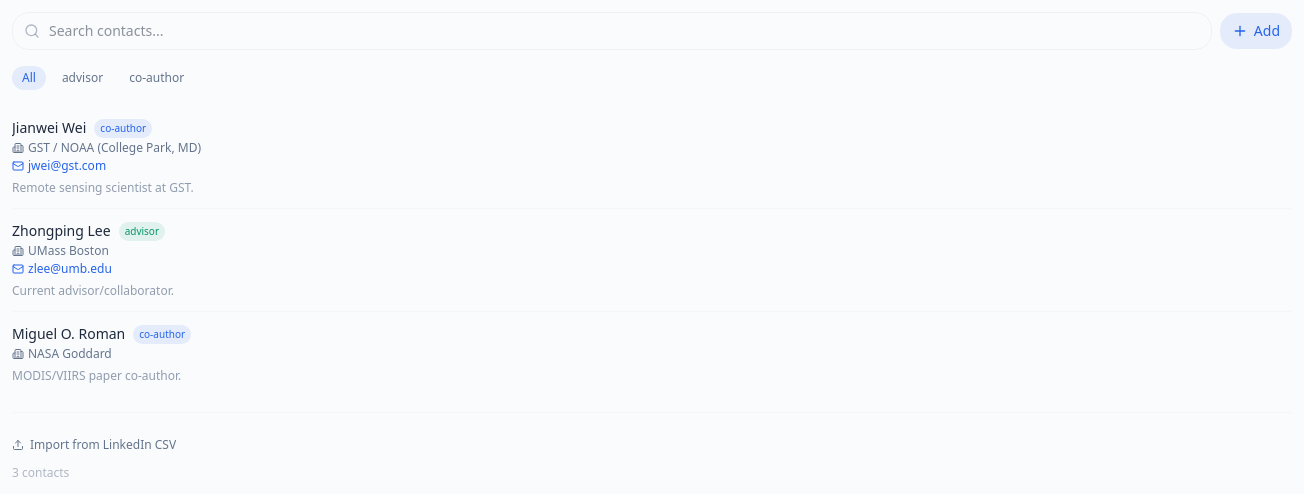
Test case: Search and filter › filter by relationship type works
The width and height of the screenshot is (1304, 494).
Click the button with test id "filter-advisor" at (83,78), box [52,66,113,90]
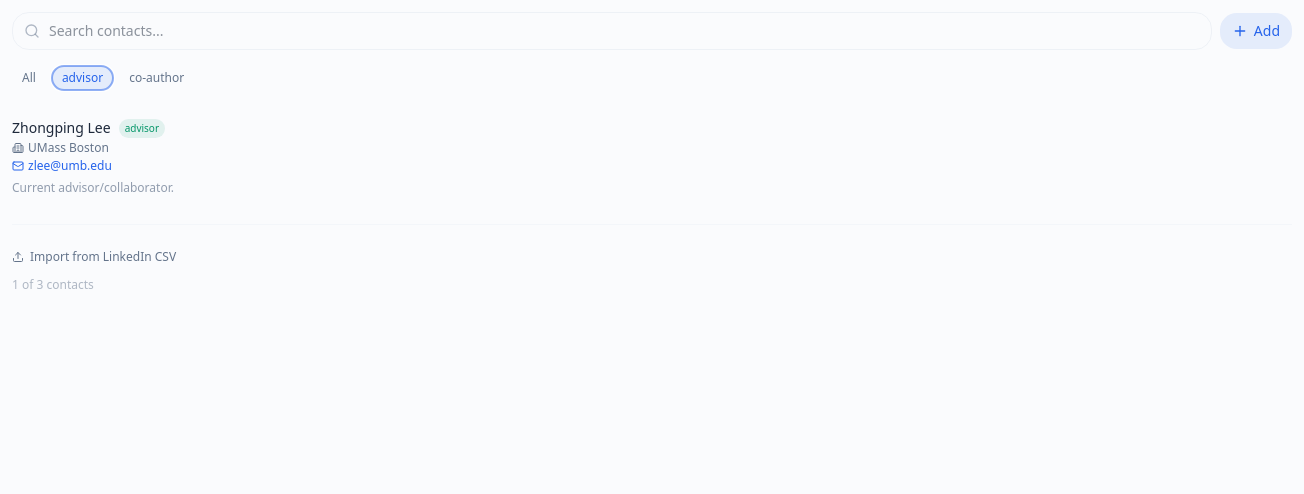
Expected: the element with test id "contact-c-lee" is shown, [12,118,174,196]
Expected: the element with test id "contact-c-wei" is gone
